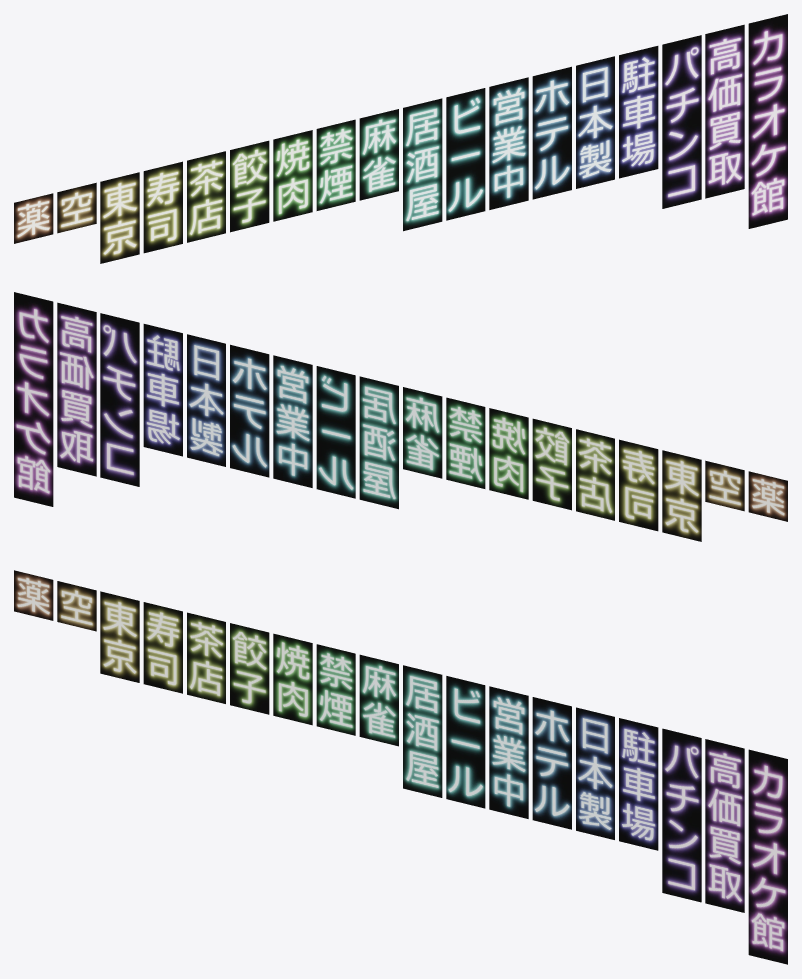
File: jp-neon.glb
The picture shows the model from 3 angles, top to bottom: view 1: azimuth 30°, elevation 25°; view 2: azimuth 150°, elevation 25°; view 3: azimuth 330°, elevation 25°; orthographic projection.
Parts seen in each view (by area): view 1: sign.017, sign.015, sign.016, sign.009, sign.012, sign.014, sign.010, sign.011, sign.013, sign.002, sign.006, sign.008 (+6 smaller); view 2: sign.017, sign.015, sign.016, sign.009, sign.012, sign.014, sign.010, sign.011, sign.013, sign.002, sign.006, sign.008 (+6 smaller); view 3: sign.017, sign.015, sign.016, sign.014, sign.011, sign.012, sign.009, sign.010, sign.013, sign.002, sign.003, sign.005 (+6 smaller).
Part boxes in pixels (x1,y1,x2,y2): sign.017: (748,14,787,228); sign.015: (662,35,701,208); sign.016: (705,24,744,198); sign.009: (403,98,442,231); sign.012: (532,66,571,199); sign.014: (619,46,658,178); sign.010: (446,88,485,220); sign.011: (489,77,528,209); sign.013: (576,56,614,188); sign.002: (100,172,139,263); sign.006: (273,130,312,221); sign.008: (359,109,398,200); sign.017: (14,292,53,506); sign.015: (100,313,139,486); sign.016: (57,302,96,476); sign.009: (359,376,398,509); sign.012: (230,344,269,477); sign.014: (143,324,182,456); sign.010: (316,366,355,498); sign.011: (273,355,312,487); sign.013: (187,334,225,466); sign.002: (662,450,701,541); sign.006: (489,408,528,499); sign.008: (403,387,442,478); sign.017: (748,749,787,964); sign.015: (662,728,701,902); sign.016: (705,739,744,912); sign.014: (619,718,658,850); sign.011: (489,686,528,818); sign.012: (532,697,571,829); sign.009: (403,665,442,797); sign.010: (446,676,485,808); sign.013: (576,707,614,839); sign.002: (100,591,139,682); sign.003: (143,602,182,693); sign.005: (230,623,269,714).
Bounding box in the file's own units: 3940 × 1000 × 0.
18 materials, 18 textured.
